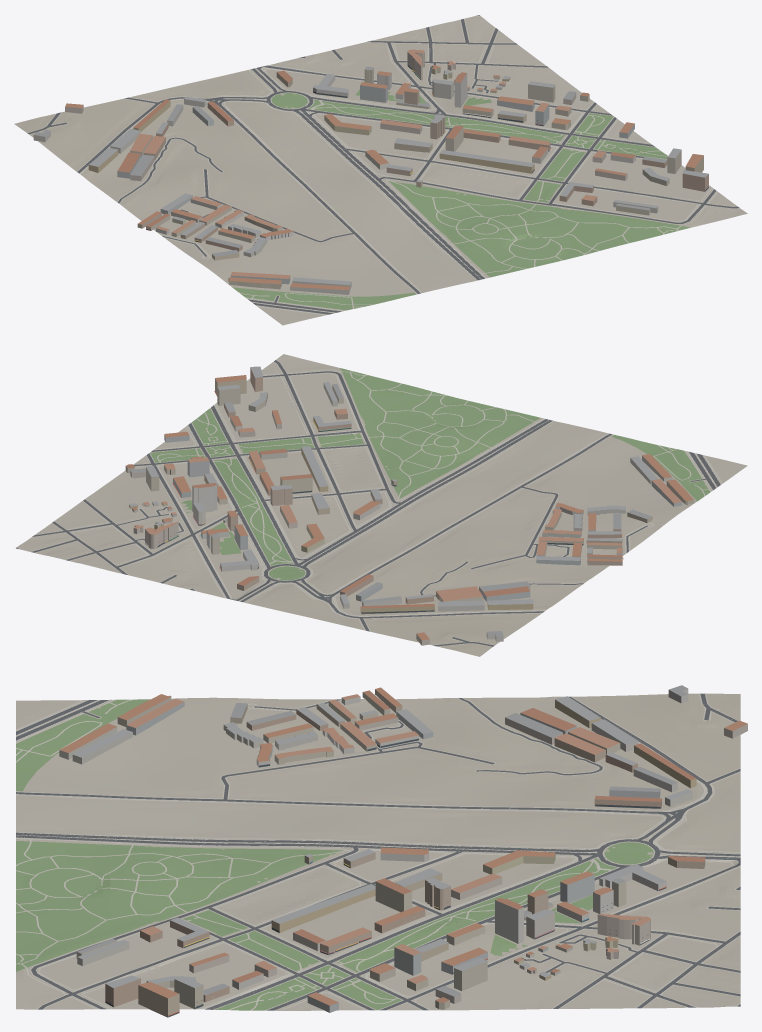
The picture shows the model from 3 angles, top to bottom: view 1: azimuth 30°, elevation 25°; view 2: azimuth 150°, elevation 25°; view 3: azimuth 270°, elevation 25°; orthographic projection. The views are drawn at different scales.
Parts seen in each view (by area): view 1: Ground, Park, Sidewalk, Walls, Roofs, Road; view 2: Ground, Park, Sidewalk, Walls, Roofs, Road, Detail; view 3: Ground, Park, Walls, Sidewalk, Roofs, Road, Detail.
Boxes of the visible parts, <box> form: Ground: <box>14,16,747,325</box>; Park: <box>232,88,690,310</box>; Sidewalk: <box>27,16,747,315</box>; Walls: <box>33,51,708,294</box>; Roofs: <box>34,49,708,290</box>; Road: <box>27,15,739,314</box>; Ground: <box>17,354,747,656</box>; Park: <box>150,368,710,580</box>; Sidewalk: <box>17,354,722,647</box>; Walls: <box>125,368,693,645</box>; Roofs: <box>126,366,693,640</box>; Road: <box>16,360,720,646</box>; Detail: <box>145,391,623,613</box>; Ground: <box>16,693,740,1010</box>; Park: <box>16,699,653,1010</box>; Walls: <box>59,689,747,1017</box>; Sidewalk: <box>16,693,740,1010</box>; Roofs: <box>60,685,747,1005</box>; Road: <box>16,693,740,1010</box>; Detail: <box>105,738,666,1016</box>.
Bounding box in the file's own units: 1048 × 60.02 × 1013.
